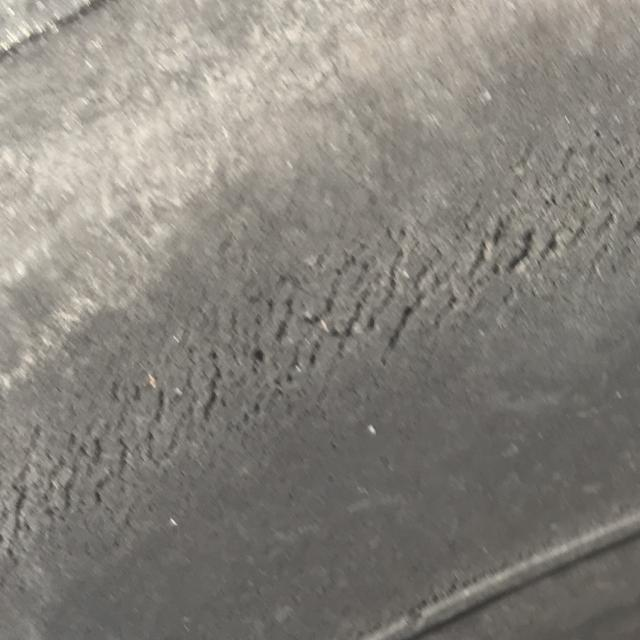Cracks: (0, 56, 639, 639)
